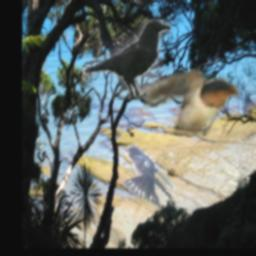Crow: (84, 20, 172, 101)
Swallow: (143, 70, 238, 137), (123, 146, 174, 211)
